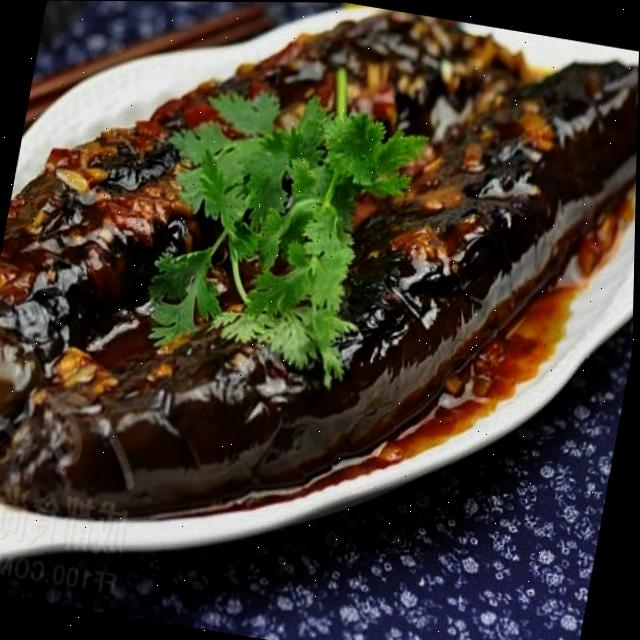鸡蛋料理: (0, 0, 640, 595)
